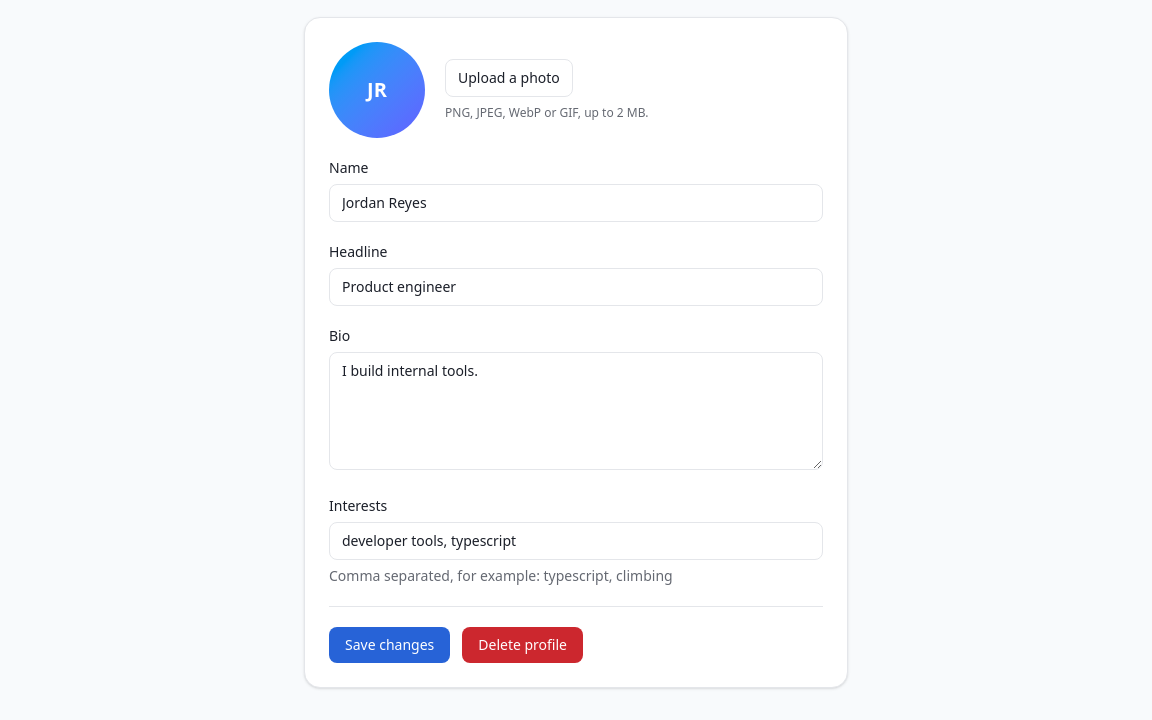
Test: profile page › asks for confirmation before deleting and can be cancelled
The image size is (1152, 720).
(page scrolled)
Expected: the field showing "Jordan Reyes" is shown, [329,184,823,222]
Step 1. Click the button "Delete profile" → (523, 645), box [462,627,583,663]
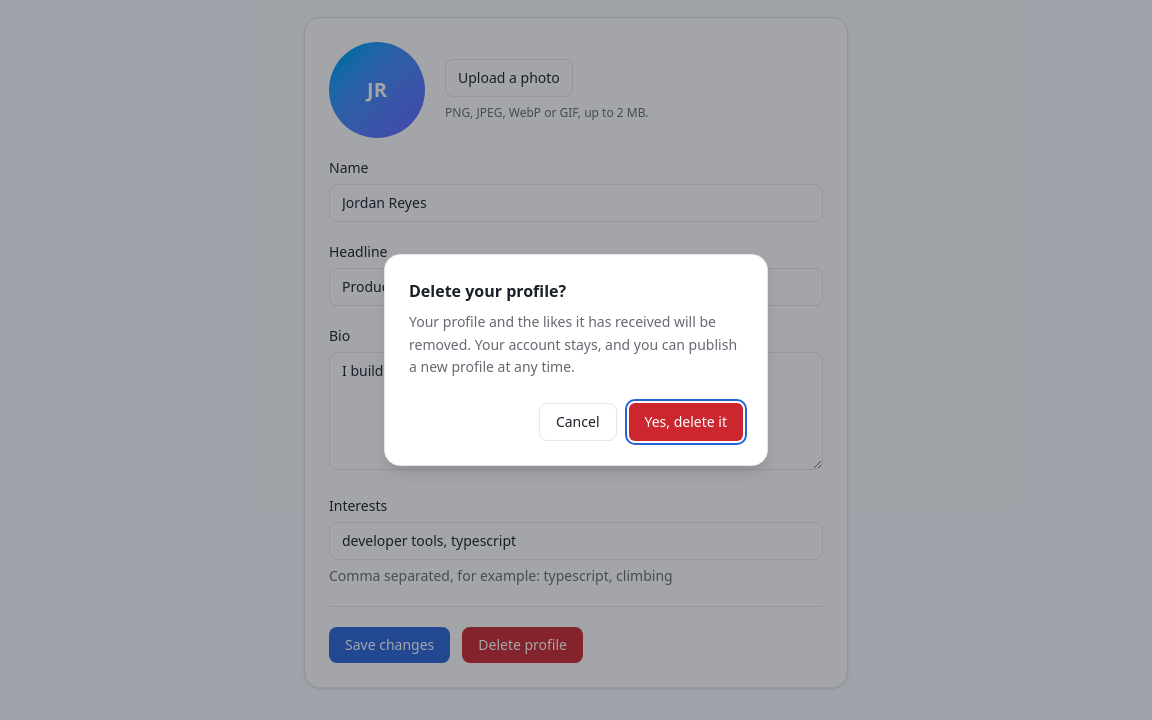
Now the dialog shows "Delete your profile?", box [409,280,566,302]
Step 2. Click the button "Cancel" → (578, 422), box [539,403,616,441]
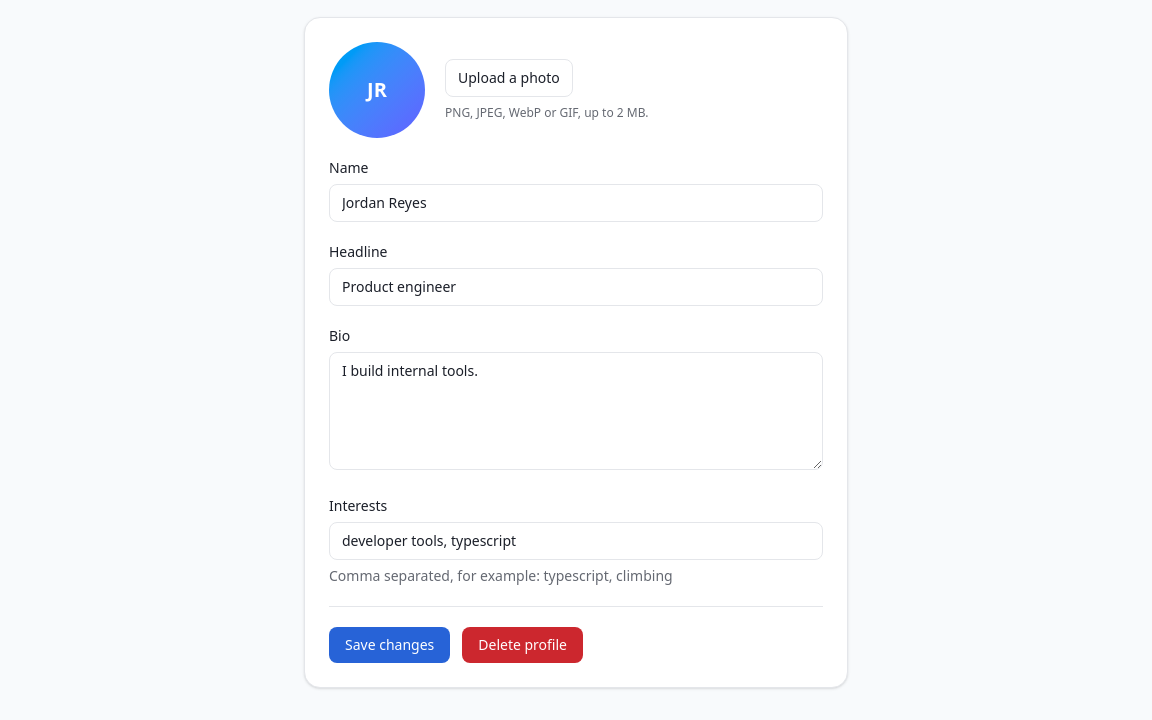
Expected: the field showing "Jordan Reyes" is shown, [329,184,823,222]
Now the dialog is gone
